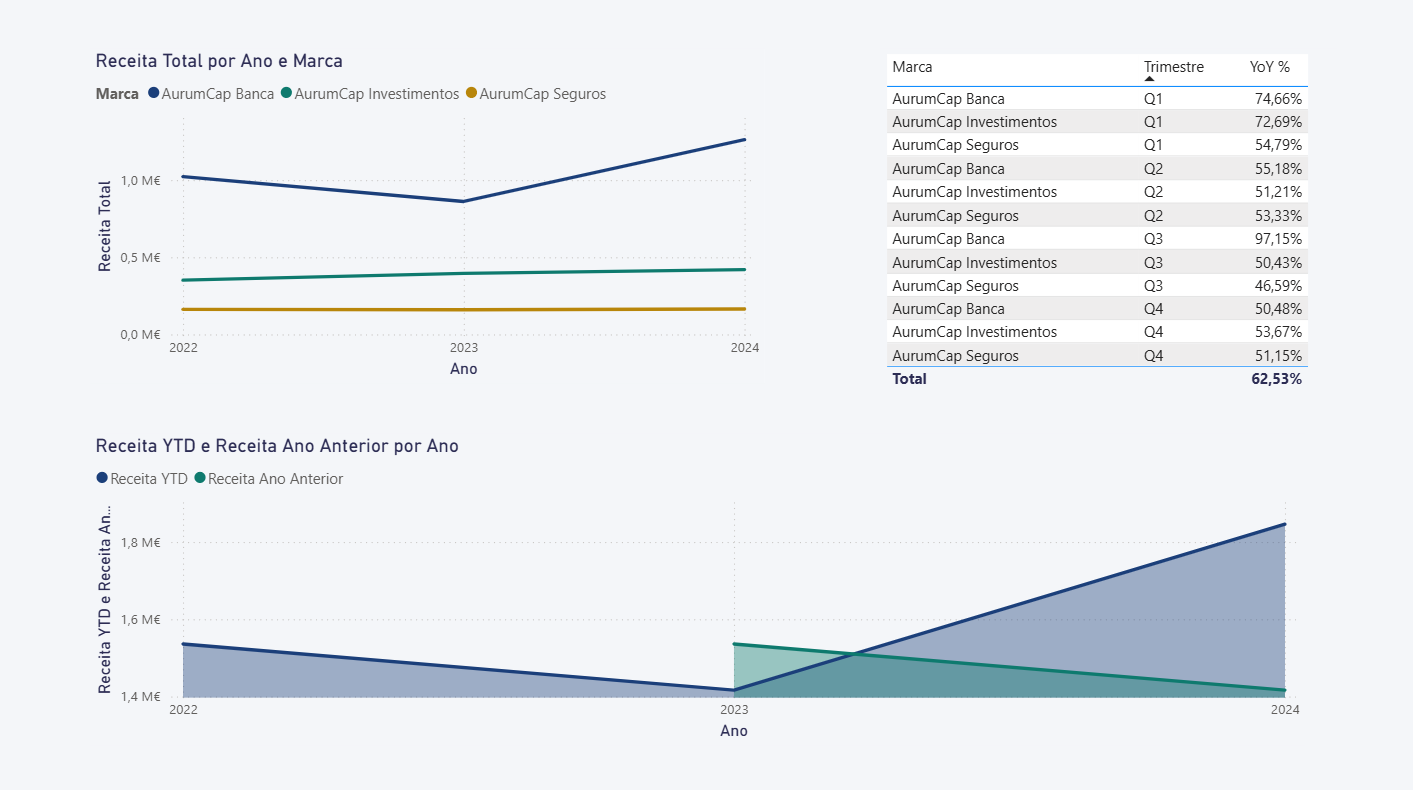

The dashboard page shown, as its layout file describes it:
{"tool":"powerbi","page":{"name":"Tendências & Crescimento","canvas":[1280,720],"ordinal":2},"visuals":[{"type":"areaChart","fields":{"Category":["Calendário.Date.Variação.Hierarquia de Datas.Ano","Calendário.Date.Variação.Hierarquia de Datas.Trimestre","Calendário.Date.Variação.Hierarquia de Datas.Mês","Calendário.Date.Variação.Hierarquia de Datas.Dia"],"Y":["Calendário.Receita YTD","Calendário.Receita Ano Anterior"]},"box":[85.1,393.8,1092.3,279.9],"z":0},{"type":"lineChart","fields":{"Category":["Calendário.Date.Variação.Hierarquia de Datas.Ano","Calendário.Date.Variação.Hierarquia de Datas.Trimestre","Calendário.Date.Variação.Hierarquia de Datas.Mês","Calendário.Date.Variação.Hierarquia de Datas.Dia"],"Y":["Calendário.Receita Total"],"Series":["marcas.nome"]},"box":[85.1,48,606.5,300.5],"z":1000},{"type":"tableEx","fields":{"Values":["marcas.nome","Calendário.Trimestre","Calendário.YoY %"]},"box":[795.9,48,410.3,322.5],"z":2000}]}

Visuals, with their boxes in screenshot pixels (x1, y1, x2, y2), scaled from the page's 1280x720 canvas onto the 1413x790 screenshot:
areaChart - Calendário.Date.Variação.Hierarquia de Datas.Ano x Calendário.Date.Variação.Hierarquia de Datas.Trimestre: locate(94, 432, 1300, 739)
lineChart - Calendário.Date.Variação.Hierarquia de Datas.Ano x Calendário.Date.Variação.Hierarquia de Datas.Trimestre: locate(94, 53, 763, 382)
tableEx - marcas.nome x Calendário.Trimestre: locate(879, 53, 1332, 407)
